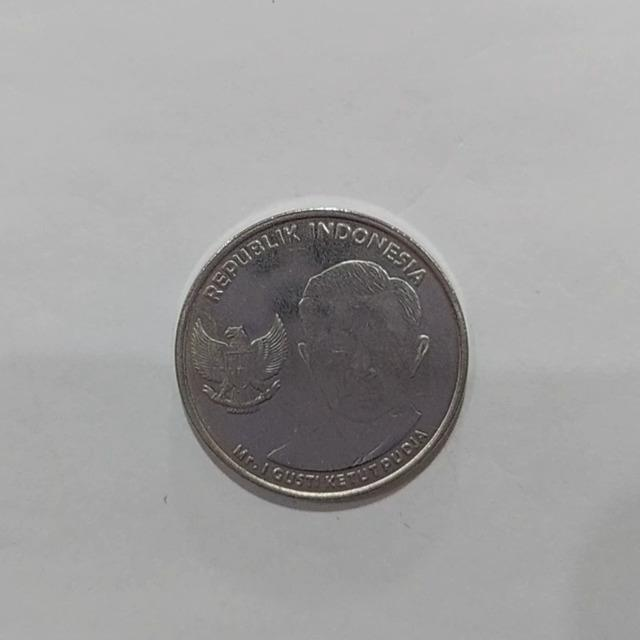Rp100: (172, 199, 470, 508)
